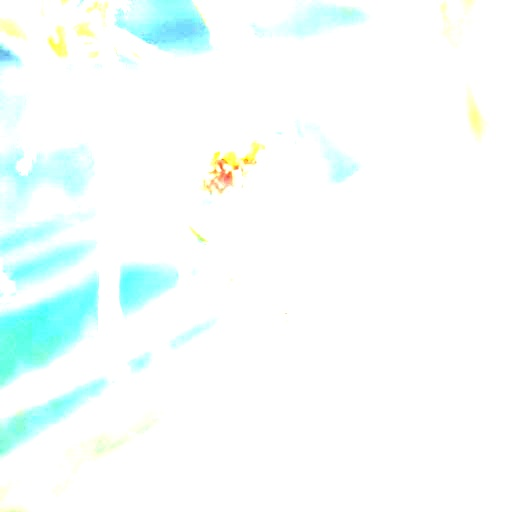Gray Mold: (198, 104, 315, 329)
